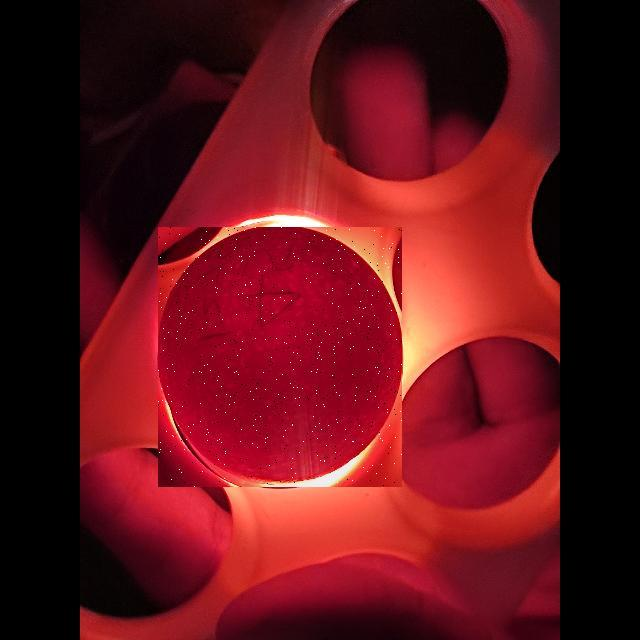Infertile: (158, 227, 402, 487)
